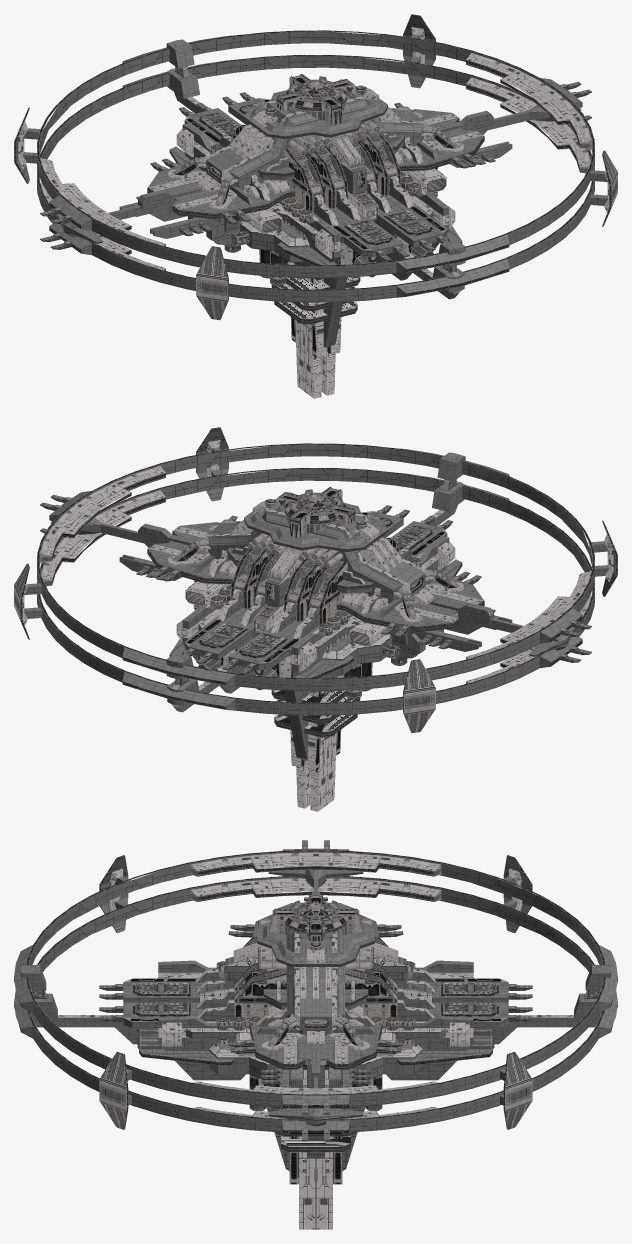
Rendered from spacestation4.glb.
The picture shows the model from 3 angles, top to bottom: view 1: azimuth 30°, elevation 25°; view 2: azimuth 150°, elevation 25°; view 3: azimuth 270°, elevation 25°; orthographic projection. The views are drawn at different scales.
Parts seen in each view (by area): view 1: GangutStation_set2_0, GangutStation_set3_0, GangutStation_set1_0; view 2: GangutStation_set2_0, GangutStation_set3_0, GangutStation_set1_0; view 3: GangutStation_set2_0, GangutStation_set3_0, GangutStation_set1_0.
Boxes of the visible parts, box(x1,y1,x2,y2) form: GangutStation_set2_0: box(16, 15, 607, 347); GangutStation_set3_0: box(14, 14, 617, 357); GangutStation_set1_0: box(18, 27, 609, 398); GangutStation_set2_0: box(24, 428, 615, 760); GangutStation_set3_0: box(14, 427, 617, 770); GangutStation_set1_0: box(22, 440, 613, 811); GangutStation_set2_0: box(14, 848, 617, 1176); GangutStation_set3_0: box(14, 840, 617, 1184); GangutStation_set1_0: box(58, 852, 573, 1229).
Bounding box in the file's own units: 1358 × 739 × 1269.
3 materials, 3 textured.
